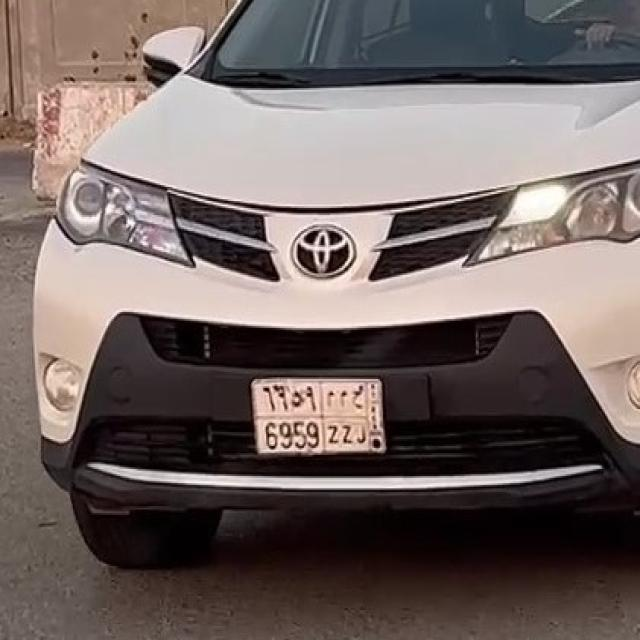Car-plate: (241, 372, 402, 467)
